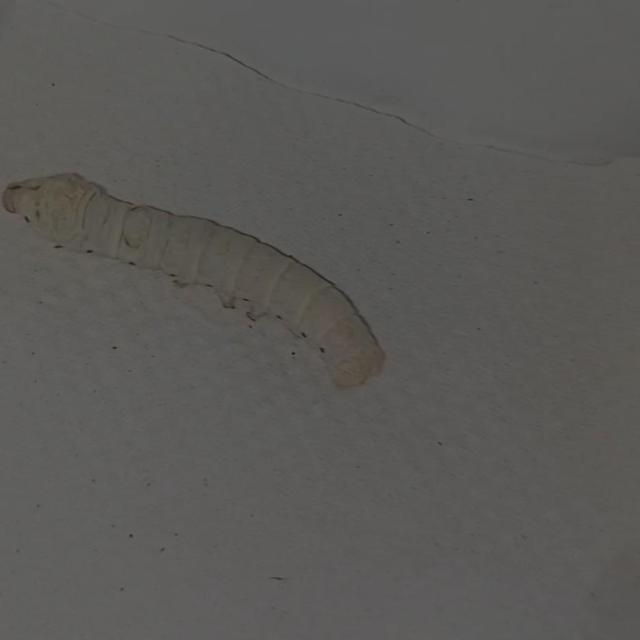Healthy: (3, 132, 404, 410)
